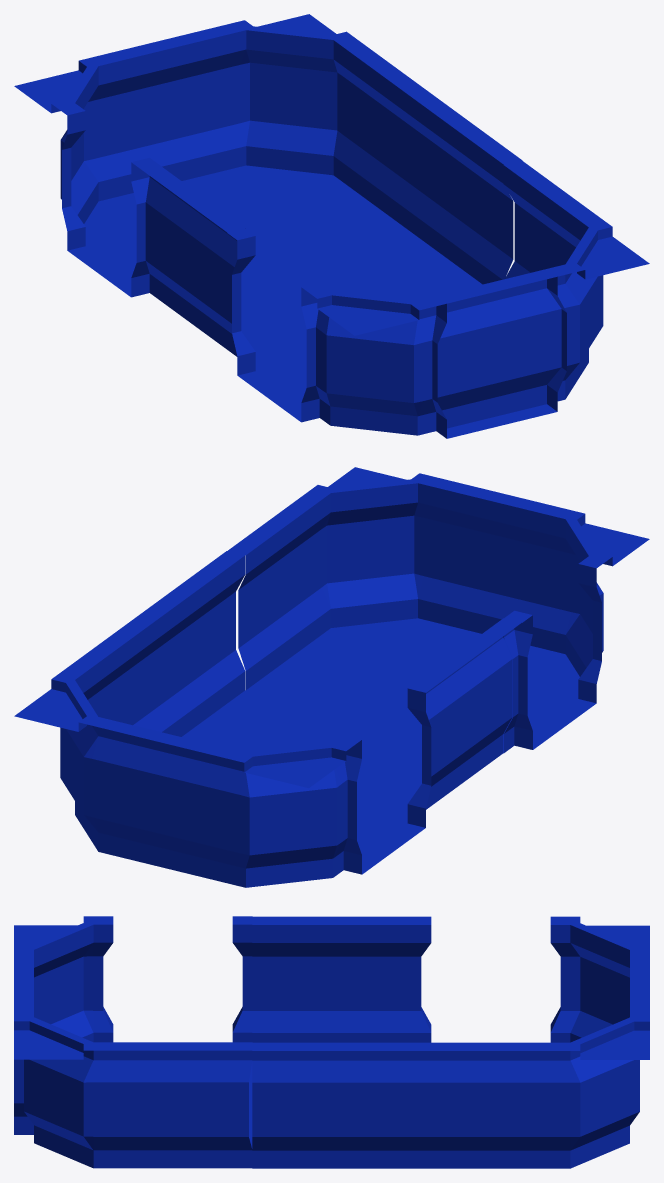
The model's file is 2x1_UBend1.FBX.
3 views of the same model, one above another, from view 1: azimuth 30°, elevation 25°; view 2: azimuth 150°, elevation 25°; view 3: azimuth 270°, elevation 25° (orthographic). The views are drawn at different scales.
Parts seen in each view (by area): view 1: 2x1_UBend1; view 2: 2x1_UBend1; view 3: 2x1_UBend1.
Part boxes in pixels (<box>): 2x1_UBend1: <box>14,14,649,438</box>; 2x1_UBend1: <box>14,467,649,887</box>; 2x1_UBend1: <box>14,916,649,1168</box>.
Size of what is drawn, in the model's own units: 801 by 350 by 1600.
